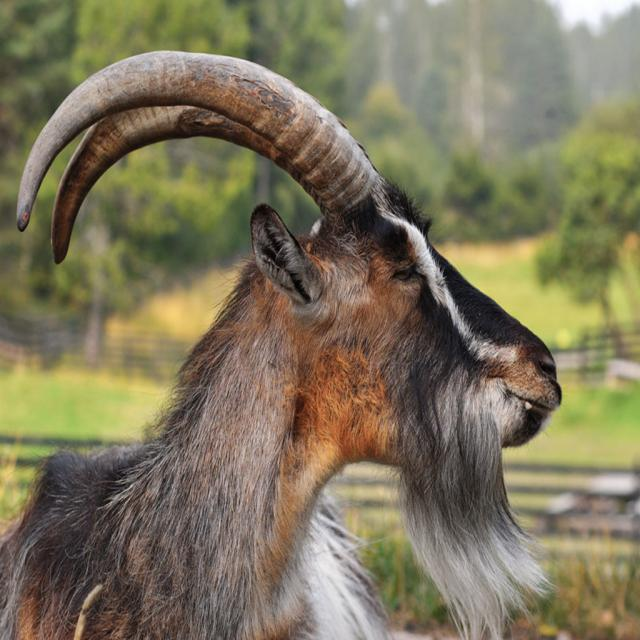Goat: (0, 51, 573, 640)
